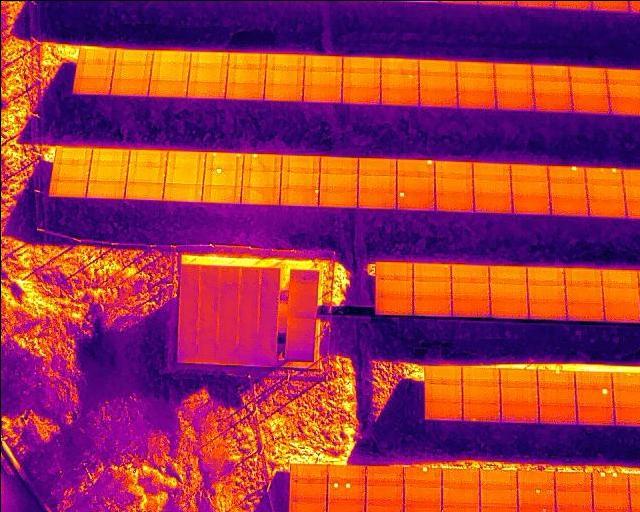Cell: (395, 189, 434, 210), (404, 467, 441, 487), (202, 167, 242, 185), (517, 489, 555, 507), (547, 165, 585, 183), (279, 187, 317, 204), (243, 153, 281, 170), (537, 370, 574, 387), (575, 388, 612, 405), (396, 158, 433, 175)
Cell-Multi: (327, 483, 365, 504), (584, 166, 623, 185), (591, 472, 628, 491), (203, 152, 243, 168)
No-Anomaly: (434, 189, 472, 212), (472, 192, 511, 213), (357, 187, 396, 207), (288, 483, 326, 503), (366, 484, 403, 504), (512, 195, 549, 215), (374, 295, 412, 314), (526, 266, 564, 285), (375, 261, 413, 280), (550, 195, 588, 214), (554, 471, 592, 490), (319, 187, 357, 206), (202, 184, 240, 203), (441, 469, 479, 488), (462, 402, 500, 421), (380, 86, 418, 105), (162, 183, 202, 201), (85, 180, 125, 198), (403, 487, 440, 506), (366, 465, 403, 484), (412, 280, 451, 298), (124, 181, 163, 199), (48, 179, 87, 197), (319, 155, 358, 173), (280, 155, 319, 173), (592, 491, 630, 509), (554, 490, 592, 508), (499, 368, 537, 386), (461, 367, 499, 385), (423, 366, 461, 384), (441, 488, 479, 506), (479, 488, 517, 506), (450, 264, 488, 282), (412, 263, 450, 281), (240, 186, 278, 204), (479, 470, 517, 488), (538, 405, 576, 423), (500, 404, 538, 422), (424, 401, 462, 419), (472, 161, 510, 179), (289, 464, 327, 482), (533, 94, 571, 112), (125, 164, 165, 181), (88, 164, 128, 181), (500, 385, 537, 403), (603, 303, 640, 321), (528, 301, 565, 319), (600, 269, 637, 287), (489, 265, 526, 283), (576, 406, 613, 424), (328, 464, 365, 482), (489, 300, 528, 317), (226, 51, 265, 68), (280, 171, 319, 188), (166, 151, 205, 168), (341, 86, 380, 103), (263, 84, 302, 101), (225, 82, 264, 99), (109, 78, 148, 95), (72, 77, 111, 94), (537, 388, 575, 405), (462, 385, 500, 402), (423, 384, 461, 401), (565, 303, 603, 320), (451, 299, 489, 316), (413, 298, 451, 315), (564, 285, 602, 302), (451, 282, 489, 299), (548, 181, 586, 198), (189, 50, 227, 67), (510, 164, 548, 181), (357, 157, 395, 174), (571, 95, 609, 112), (496, 93, 534, 110), (457, 91, 495, 108), (531, 64, 569, 81), (49, 164, 89, 180), (490, 283, 527, 300), (564, 268, 601, 285), (517, 471, 554, 488), (54, 147, 91, 164), (265, 53, 304, 69), (114, 49, 153, 65), (318, 172, 357, 188), (241, 170, 280, 186), (90, 148, 129, 164), (302, 86, 341, 102), (186, 82, 225, 98), (148, 80, 187, 96), (341, 71, 380, 87), (341, 55, 380, 71), (526, 285, 564, 301), (585, 183, 623, 199), (151, 50, 189, 66), (419, 90, 457, 106), (456, 75, 494, 91), (303, 70, 341, 86), (418, 59, 456, 75), (380, 57, 418, 73), (303, 55, 341, 71), (164, 168, 204, 183), (187, 67, 227, 82), (574, 372, 611, 388), (588, 199, 625, 215), (473, 176, 510, 192), (435, 160, 472, 176), (494, 62, 531, 78), (373, 279, 412, 294), (127, 150, 166, 165), (494, 78, 533, 93), (264, 69, 303, 84), (225, 67, 264, 82), (603, 287, 639, 303), (510, 180, 548, 195), (434, 175, 472, 190), (357, 174, 395, 189), (396, 174, 434, 189), (533, 80, 571, 95), (418, 75, 456, 90), (380, 73, 418, 88), (150, 65, 188, 80), (455, 62, 493, 77), (570, 81, 607, 96), (111, 64, 150, 78), (570, 67, 606, 82), (75, 64, 113, 78), (78, 49, 114, 63), (366, 332, 368, 337)
